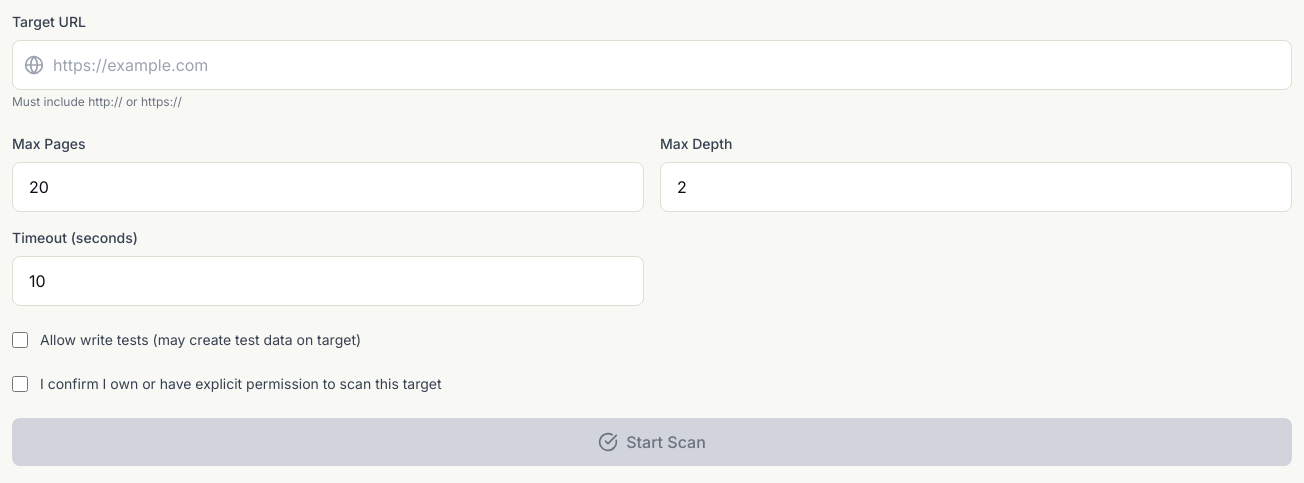
ScanWizard › clamps timeout to 1-300 range
Replace the text in the number field labelled "Timeout (seconds)" with "0" at (328, 281), box [12,256,644,306]
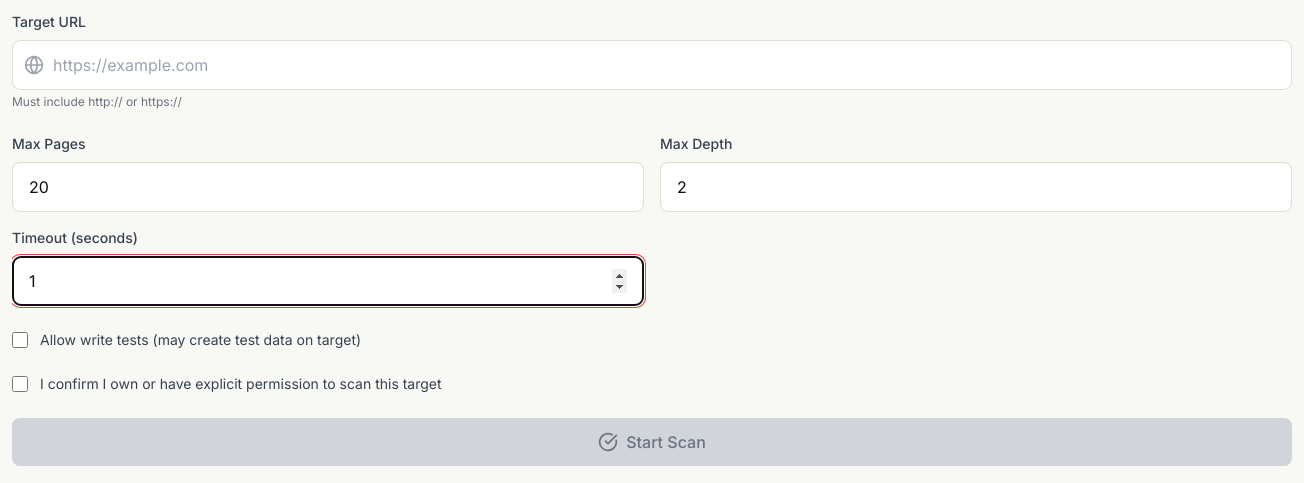
Expected: the number field labelled "Timeout (seconds)" holds "1"
Replace the text in the number field labelled "Timeout (seconds)" with "301" at (328, 281), box [12,256,644,306]
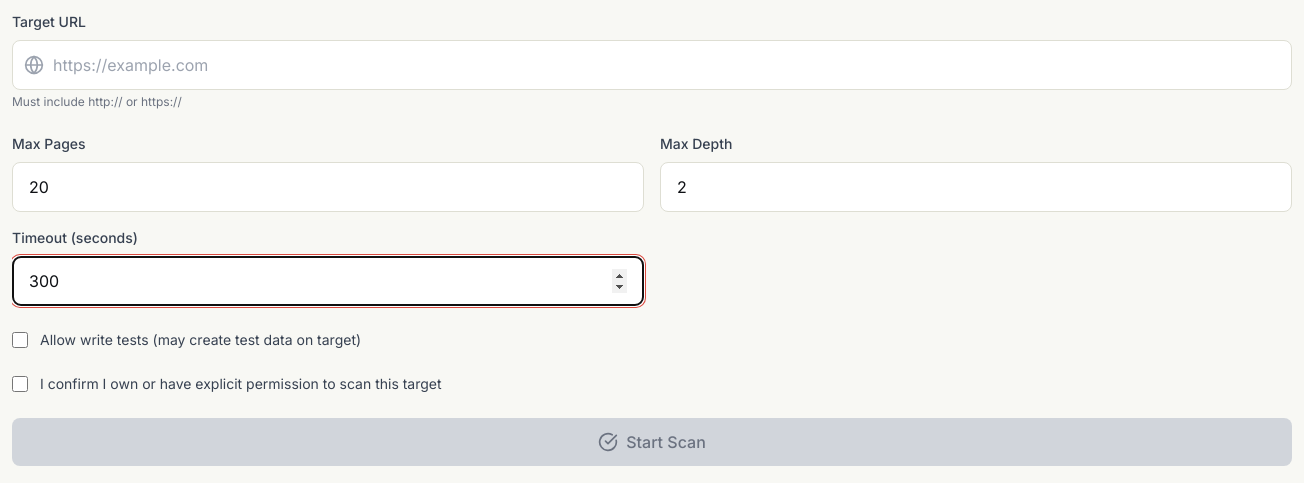
Expected: the number field labelled "Timeout (seconds)" holds "300", [12,256,644,306]
